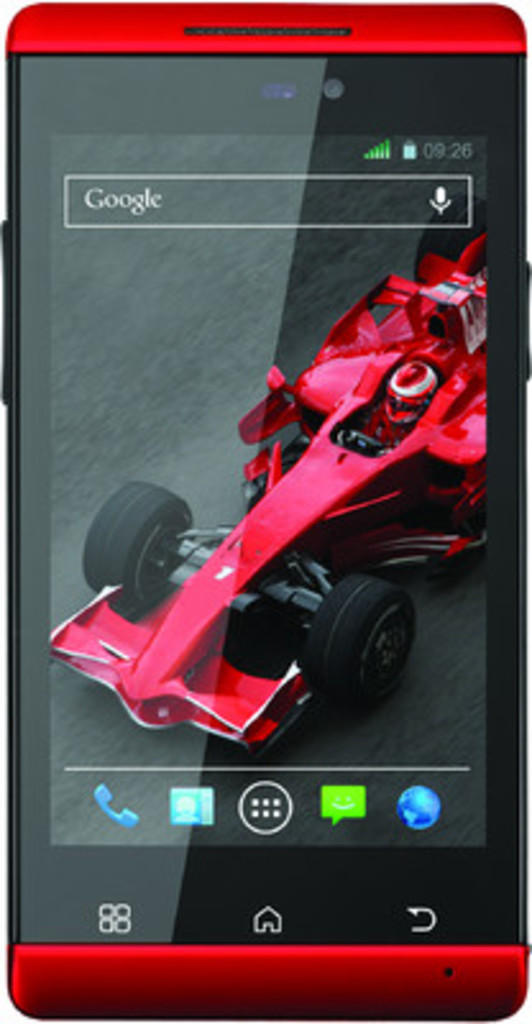Mobile-phone: (0, 15, 532, 1012)
